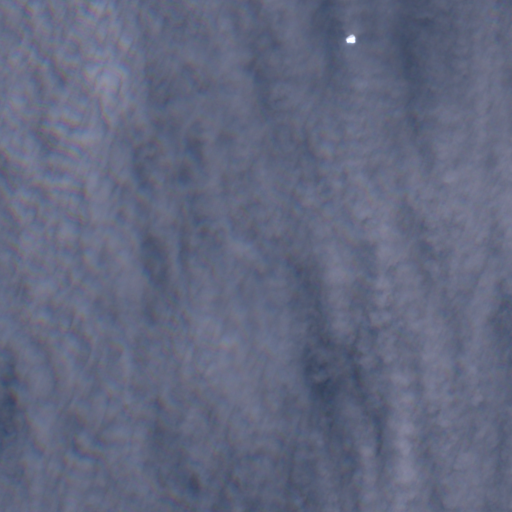Iceberg: (345, 34, 355, 43)
